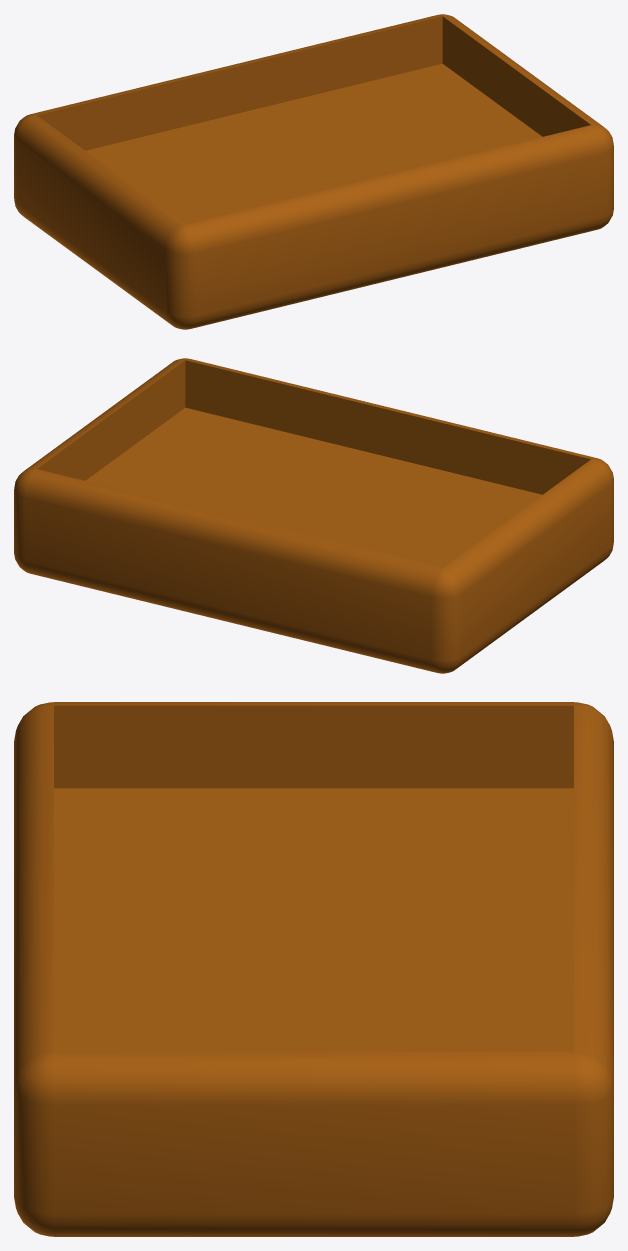
Rendered from ship2.fbx.
3 views of the same model, one above another, from view 1: azimuth 30°, elevation 25°; view 2: azimuth 150°, elevation 25°; view 3: azimuth 270°, elevation 25° (orthographic). The views are drawn at different scales.
Visible parts, largest first — view 1: Cube; view 2: Cube; view 3: Cube.
Boxes of the visible parts, left/top/right/bottom form: Cube: left=14, top=14, right=613, bottom=329; Cube: left=14, top=358, right=613, bottom=673; Cube: left=14, top=702, right=613, bottom=1236.
Size of the model in its own units: 900 by 200 by 600.
